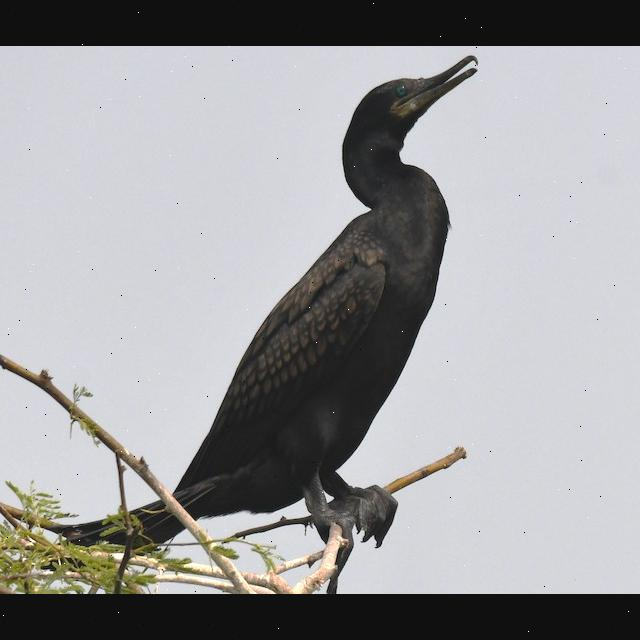cormorant: (74, 46, 496, 566)
